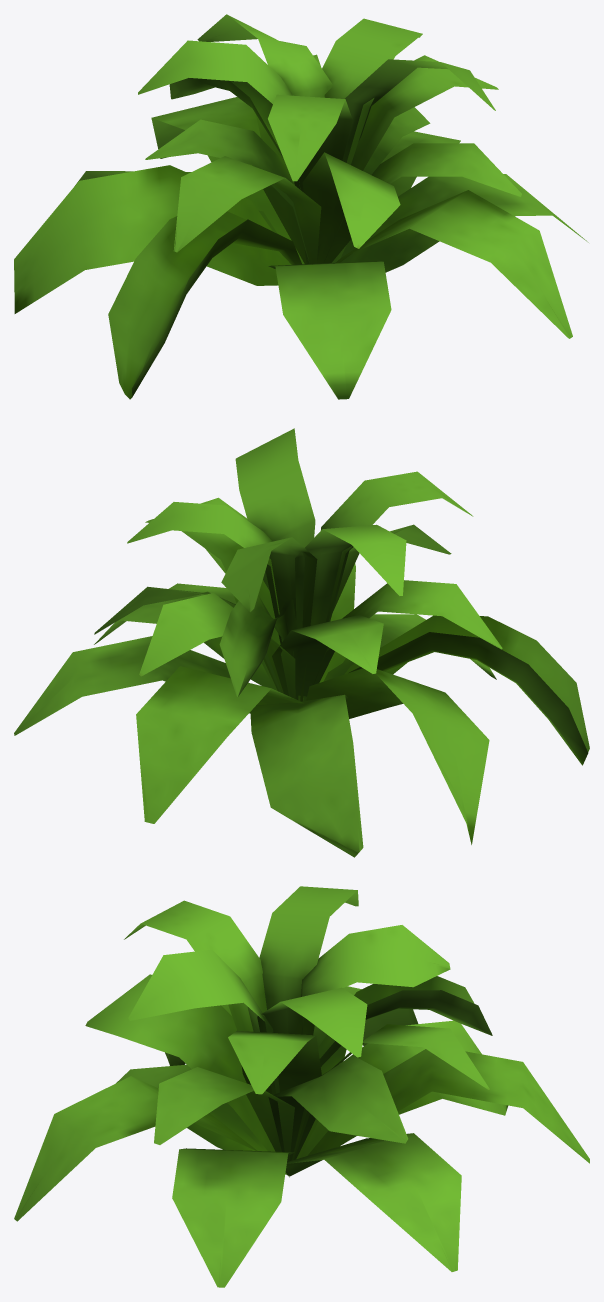
Rendered from Grass.fbx.
The picture shows the model from 3 angles, top to bottom: view 1: azimuth 30°, elevation 25°; view 2: azimuth 150°, elevation 25°; view 3: azimuth 270°, elevation 25°; orthographic projection. The views are drawn at different scales.
Visible parts, largest first — view 1: Grass; view 2: Grass; view 3: Grass.
Boxes of the visible parts, x1,y1,x2,y2 form: Grass: (14,14,588,399); Grass: (14,428,589,857); Grass: (14,886,589,1287).
Bounding box in the file's own units: 46.24 × 24.29 × 46.96.
